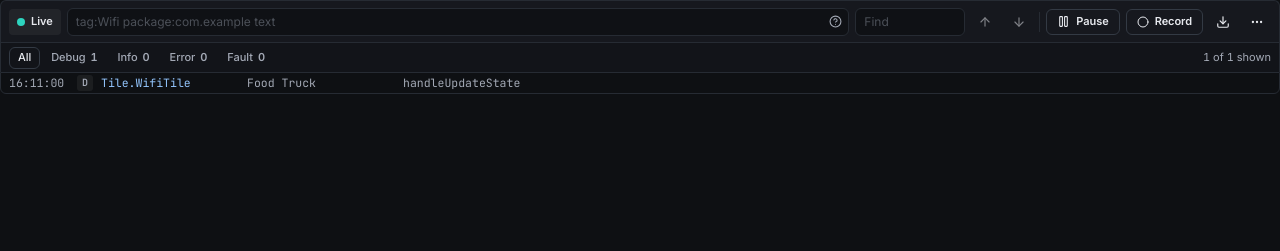
Scenario: LogcatView — acting on lines › on iOS, choosing Debug turns Debug on at the device, and Show only this app narrows it there
Click the button with aria-label "Debug and above": (74, 58) [42,46,107,68]
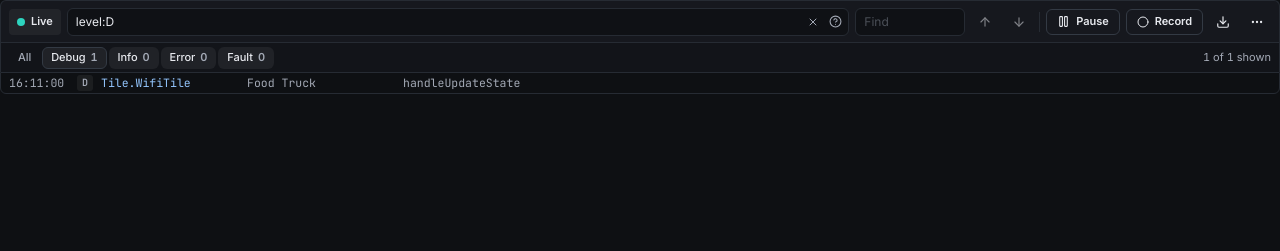
Click the option "handleUpdateState": (265, 83) [9,75,520,91]
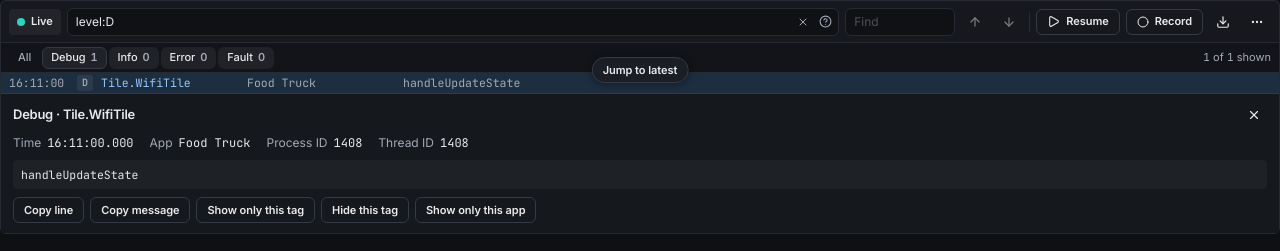
Click the button "Show only this app": (476, 210) [415,197,536,223]
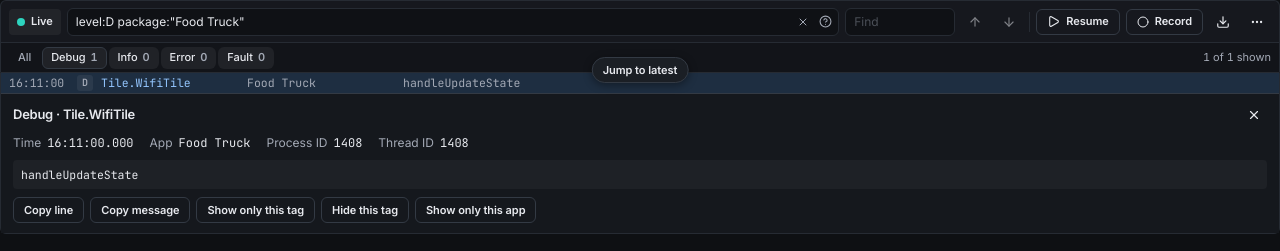
Expected: the 1st text "Food Truck" is shown, [247,75,316,90]
Expected: the field named "Filter logs" holds "level:D package:\"Food Truck\"", [67,8,839,36]
